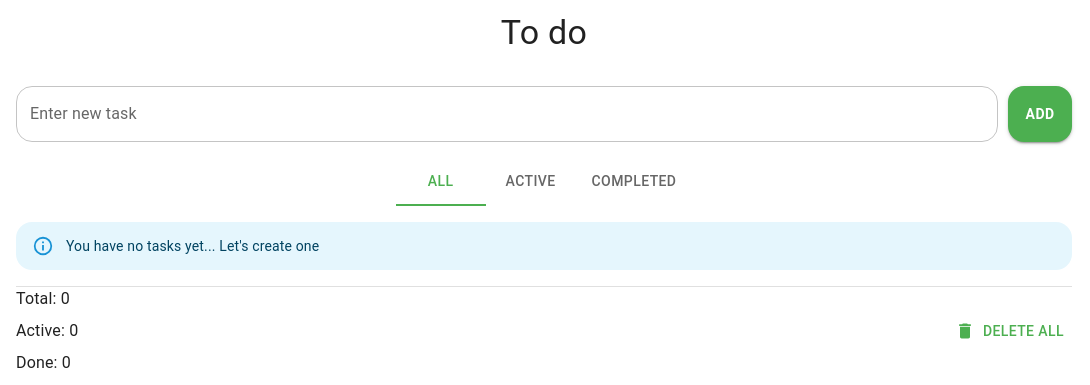
App Component › adds a new task
Type "New Task" into the field labelled "Enter new task" at (507, 114), box [16,86,998,142]
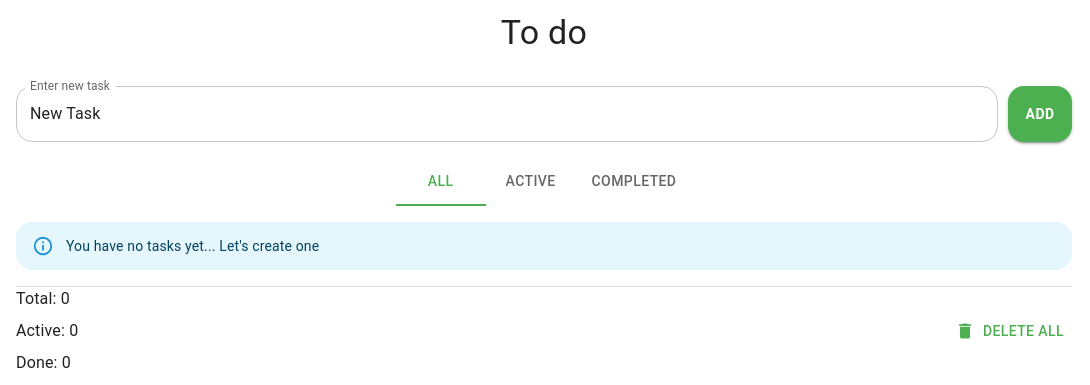
Click the button "Add" at (1040, 114), box [1008,86,1072,142]
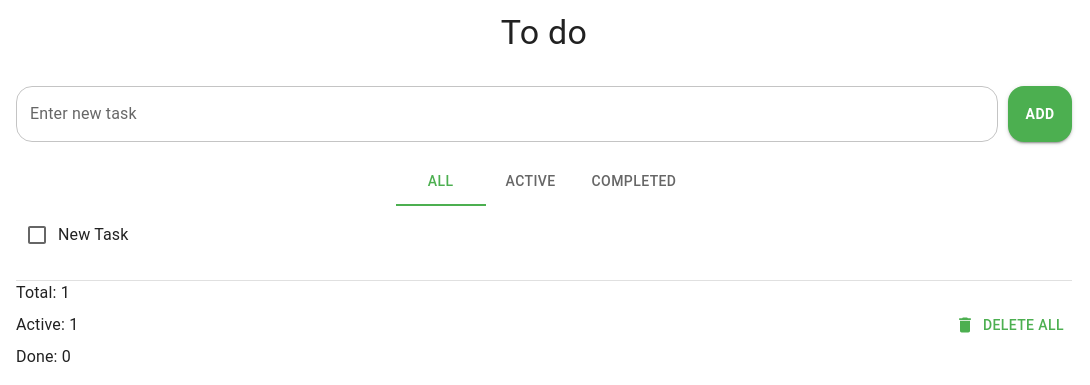
Result: the text "New Task" is shown at [58,223,128,247]
